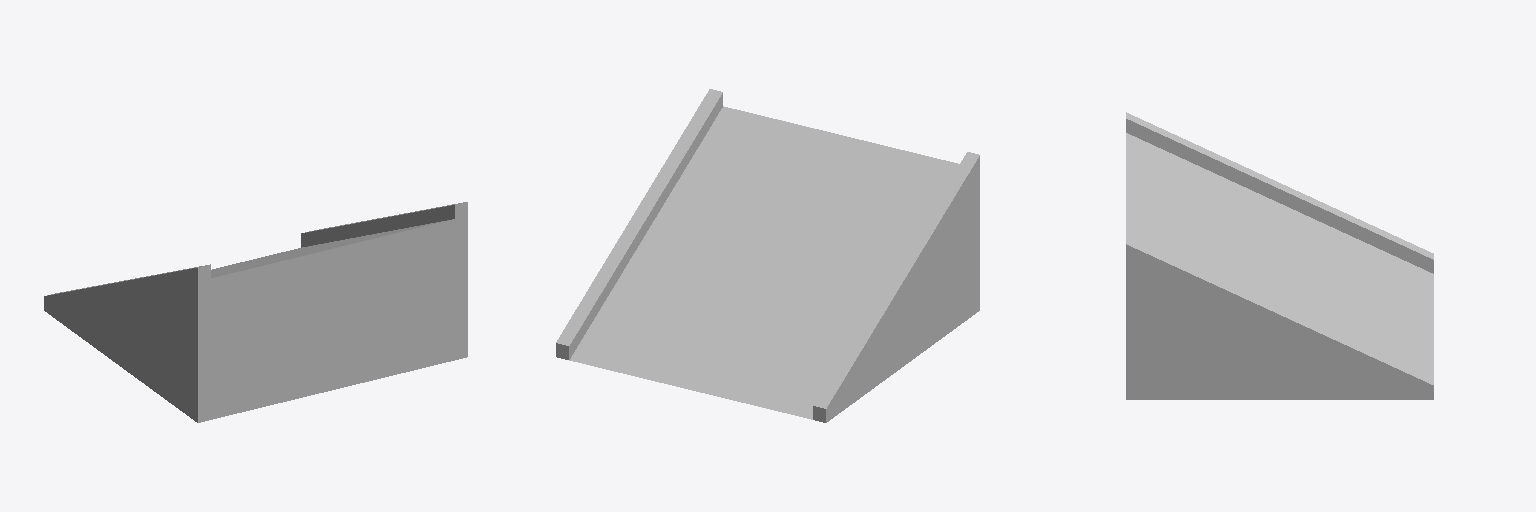
Rendered from Rampa_B2_Pt1.obj.
3 renders of one model, left to right at view 1: azimuth 30°, elevation 25°; view 2: azimuth 150°, elevation 25°; view 3: azimuth 270°, elevation 25°, orthographic.
Parts seen in each view (by area): view 1: Rampa_B2_Pt1_Cube.010; view 2: Rampa_B2_Pt1_Cube.010; view 3: Rampa_B2_Pt1_Cube.010.
Part boxes in pixels (bbox=[...]): Rampa_B2_Pt1_Cube.010: bbox=[44, 202, 467, 422]; Rampa_B2_Pt1_Cube.010: bbox=[556, 89, 979, 422]; Rampa_B2_Pt1_Cube.010: bbox=[1126, 112, 1433, 399].
Bounding box in the file's own units: 2 × 1.1 × 1.97.